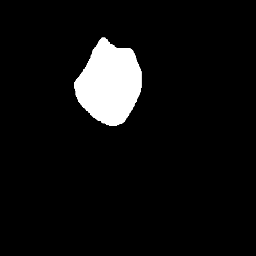mass: (79, 43, 144, 124)
